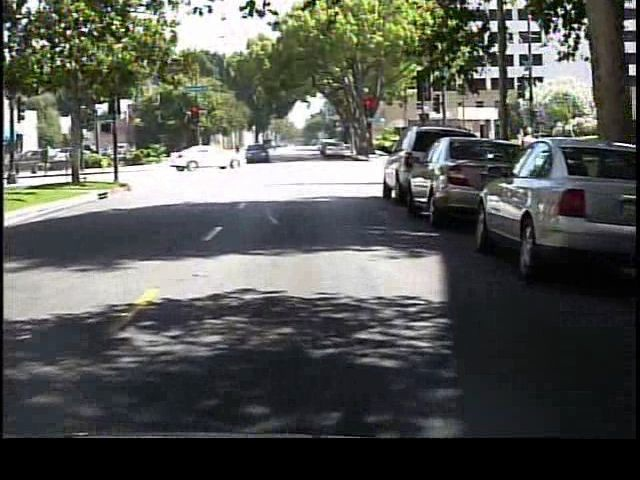person: (250, 141, 267, 170)
